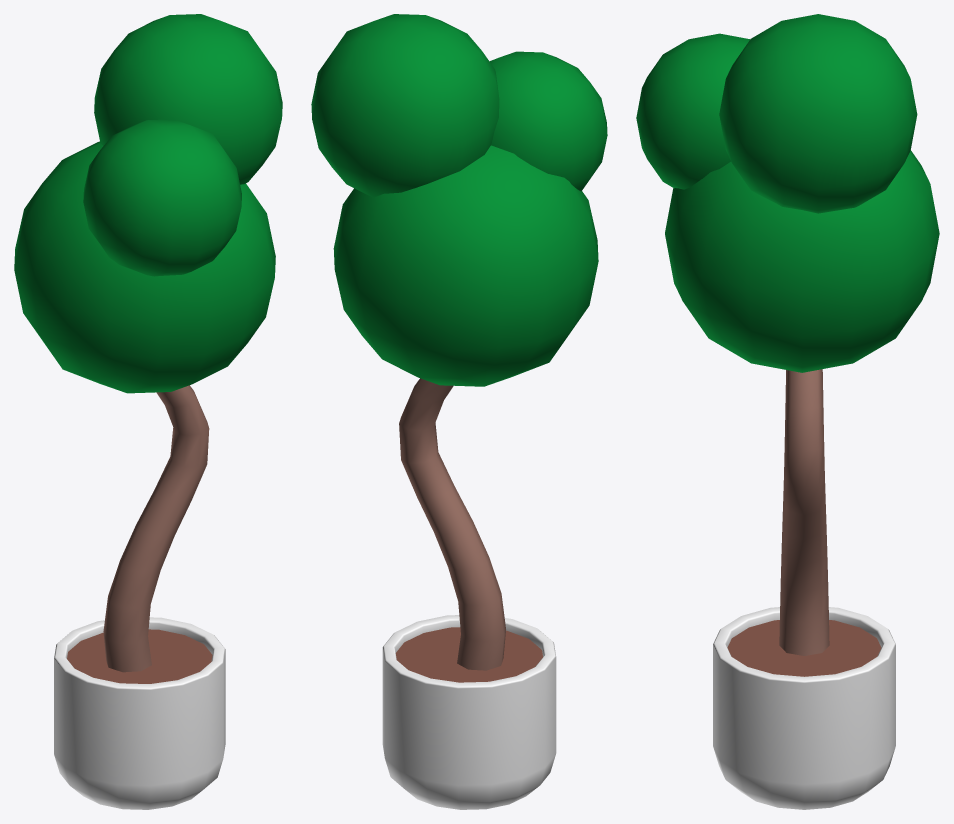
Rendered from Town_1_Plant_6.glb.
3 views of the same model, side by side, from view 1: azimuth 30°, elevation 25°; view 2: azimuth 150°, elevation 25°; view 3: azimuth 270°, elevation 25° (orthographic). The views are drawn at different scales.
Visible parts, largest first — view 1: Town_1_Plant_6; view 2: Town_1_Plant_6; view 3: Town_1_Plant_6.
Boxes of the visible parts, x1,y1,x2,y2 form: Town_1_Plant_6: (14, 14, 282, 809); Town_1_Plant_6: (311, 14, 607, 809); Town_1_Plant_6: (636, 14, 939, 809).
Bounding box in the file's own units: 1.47 × 4.28 × 1.49.
1 material, 1 textured.
